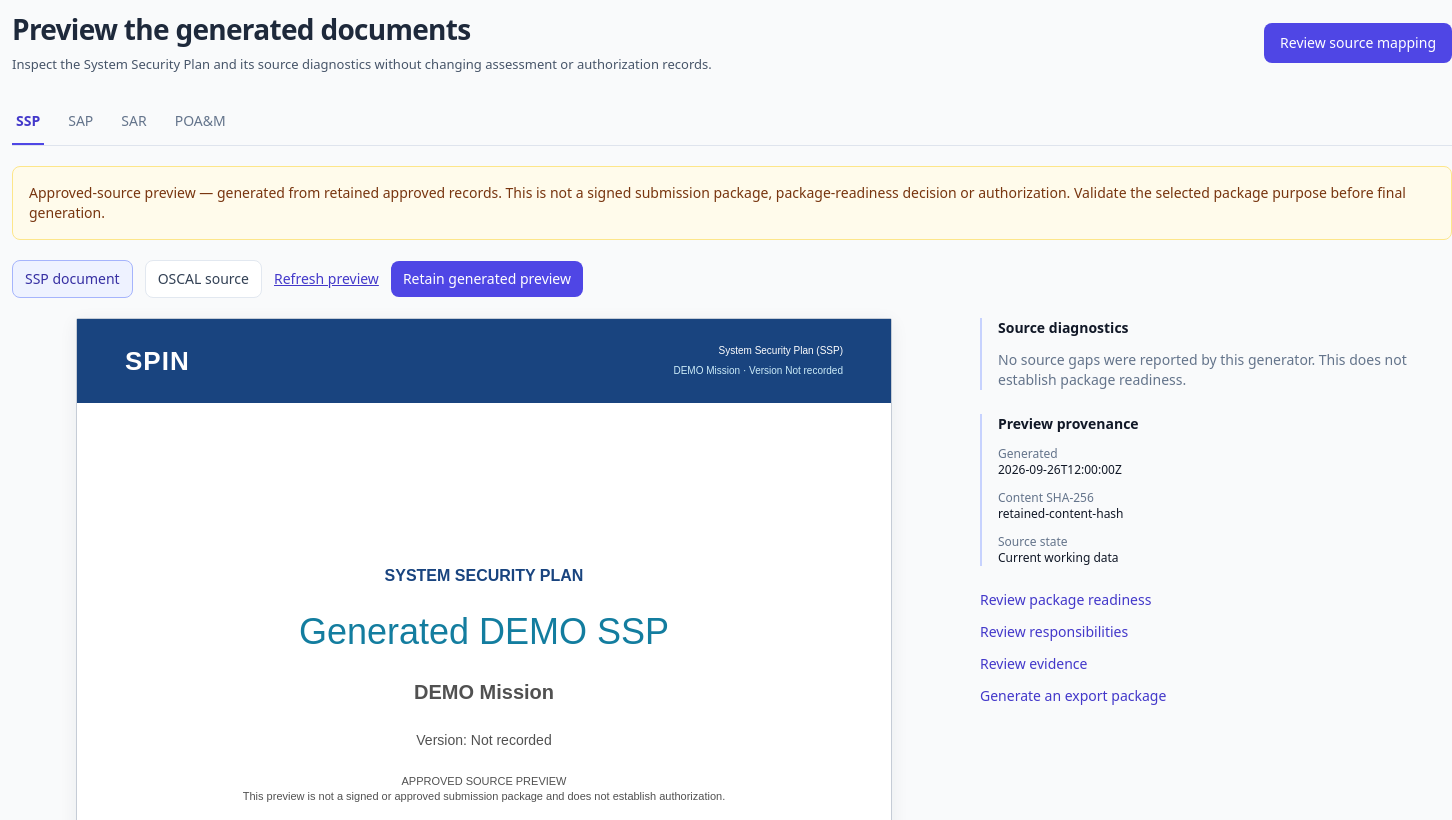
generated document preview › requests and retains approved-source mode without relabeling it as a working draft or authorization
This screenshot has width=1452, height=820.
Check: the heading "Generated DEMO SSP" is shown, box [299, 612, 669, 654]
Click the button "Retain generated preview".
click(487, 278)  # box [391, 260, 583, 296]
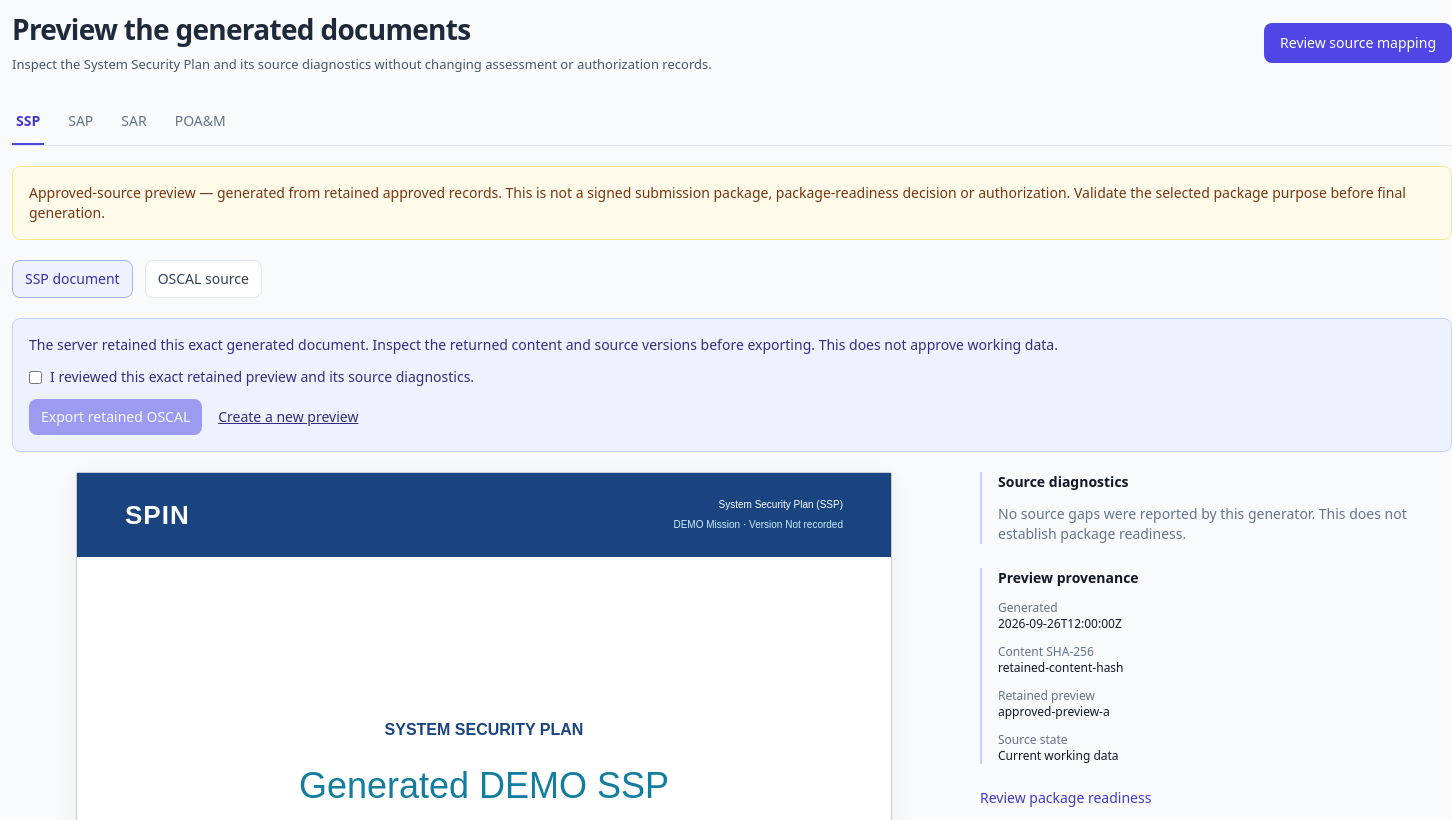
Check: the text "server retained this exact generated document" is shown, box [29, 334, 1058, 354]
